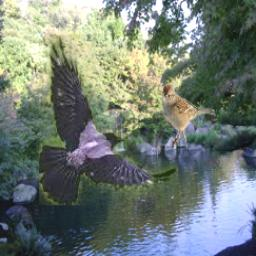Crow: (39, 35, 178, 205)
Sparrow: (161, 83, 216, 149)
